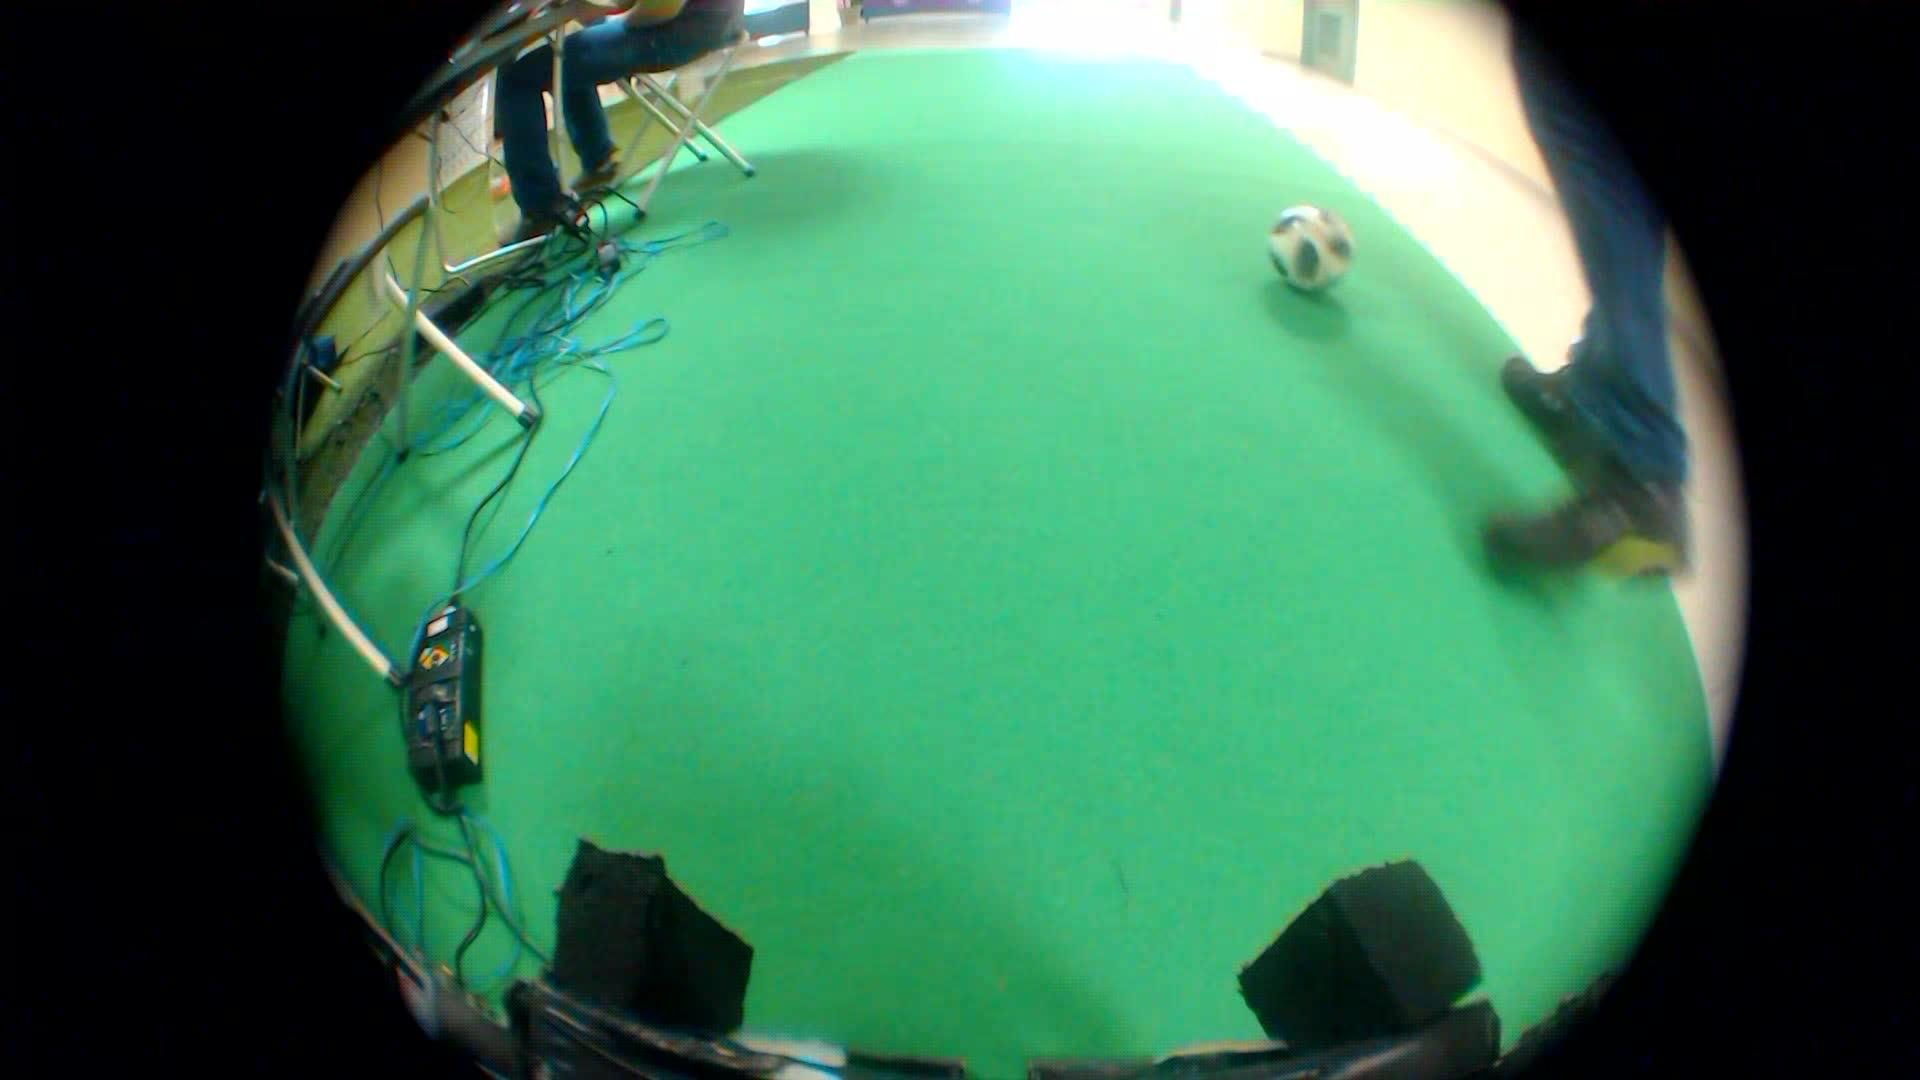ball: (1253, 191, 1356, 305)
